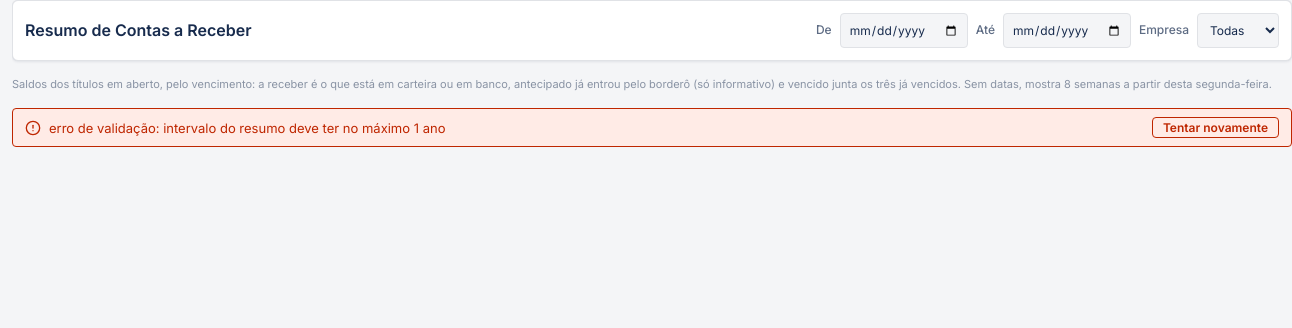
it: ResumoContasAReceber › mostra o vazio e o erro com nova tentativa
Expected: the text "no máximo 1 ano" is shown, [49, 120, 445, 136]
Click the button "Tentar novamente".
click(1215, 128)  # box [1152, 117, 1279, 138]
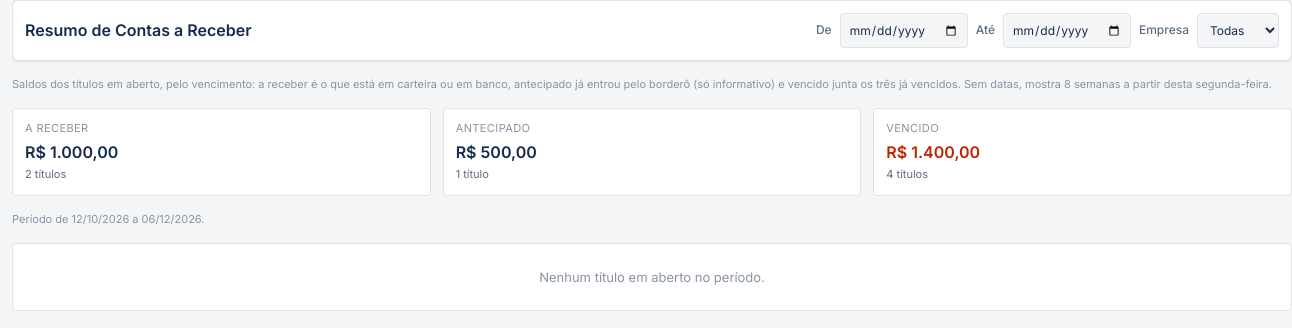
Expected: the text "Nenhum título em aberto no período." is shown, [12, 243, 1291, 311]
